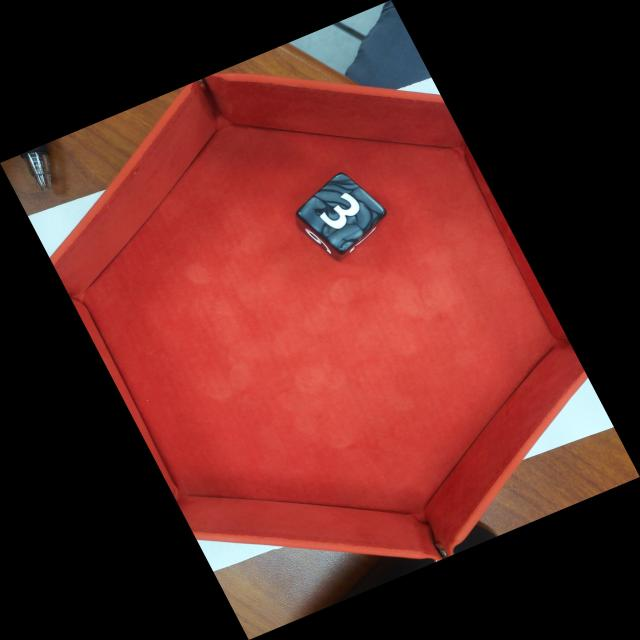dice: (292, 169, 390, 256)
